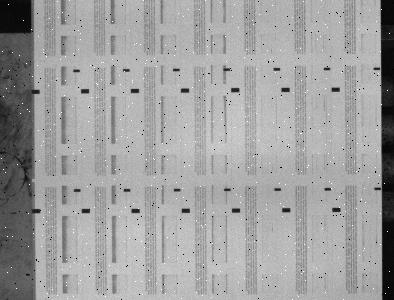qblock: (131, 208, 140, 213), (181, 208, 190, 213), (332, 207, 341, 212), (31, 89, 40, 94), (130, 88, 139, 93), (32, 208, 41, 213), (281, 87, 290, 92), (331, 87, 340, 92), (232, 208, 240, 213), (181, 88, 189, 93), (81, 209, 90, 213), (282, 208, 291, 212), (231, 88, 239, 92), (81, 89, 89, 93)
smallqblock: (174, 188, 181, 192), (324, 187, 331, 191), (273, 67, 280, 71), (223, 67, 230, 71), (224, 188, 231, 192), (124, 188, 130, 192), (74, 188, 80, 192), (274, 188, 281, 191), (373, 67, 380, 70), (324, 67, 331, 70), (73, 69, 80, 72), (374, 187, 381, 190), (123, 69, 130, 72), (173, 68, 180, 71)
